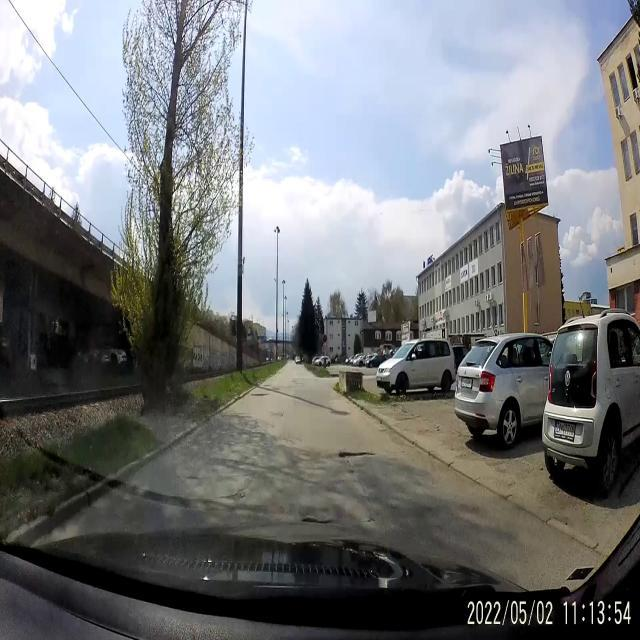Pothole: (295, 511, 336, 530), (338, 449, 378, 467)
